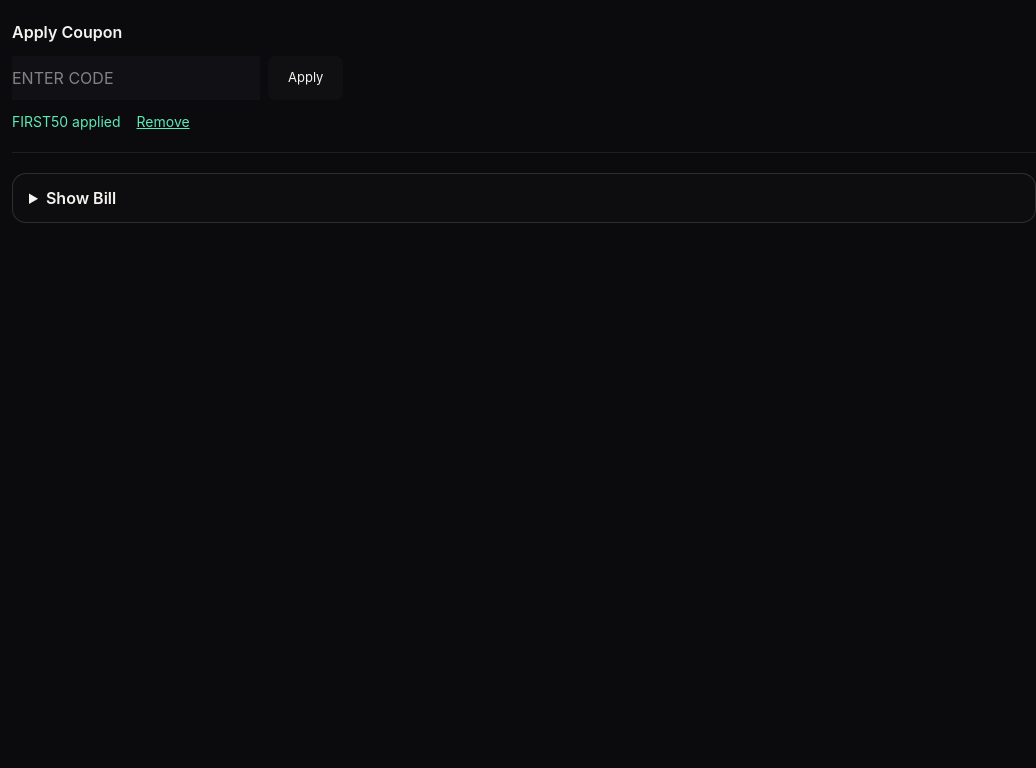
Scenario: combines matching admission taxes and displays a genuinely waived fee as free
The width and height of the screenshot is (1036, 768).
Click the heading "Show Bill" at (81, 198), box [46,188,116,208]
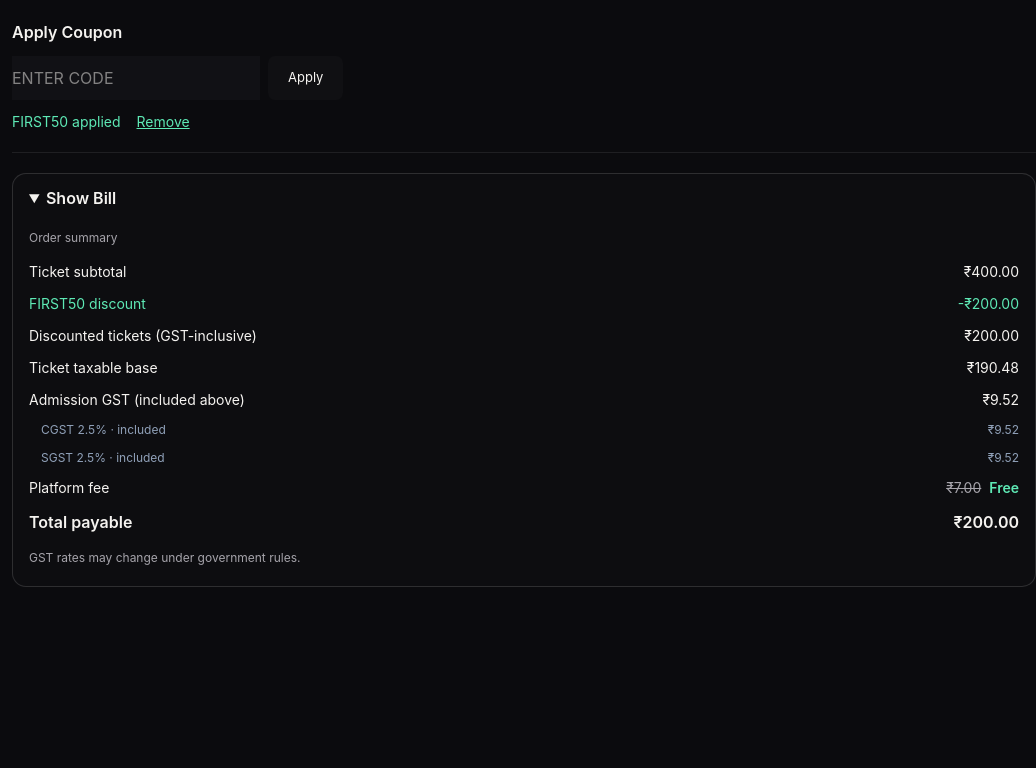
Result: the text "Free" is shown at [989,478,1019,498]
Result: the text "CGST 2.5% · included" is shown once at [41,422,166,438]
Result: the text "SGST 2.5% · included" is shown once at [41,450,165,466]
